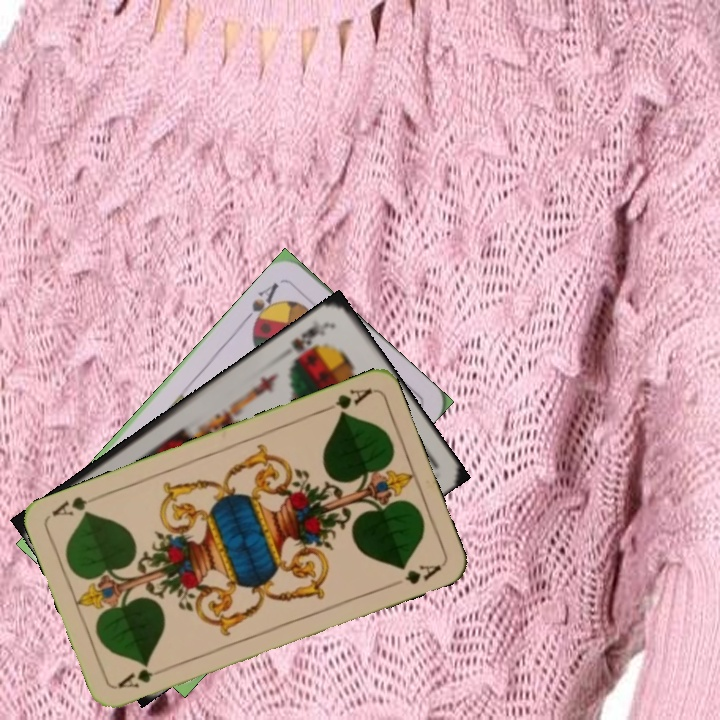GA: (317, 384, 374, 418), (113, 662, 171, 691)
SA: (239, 278, 283, 332)
SK: (285, 321, 331, 365)
